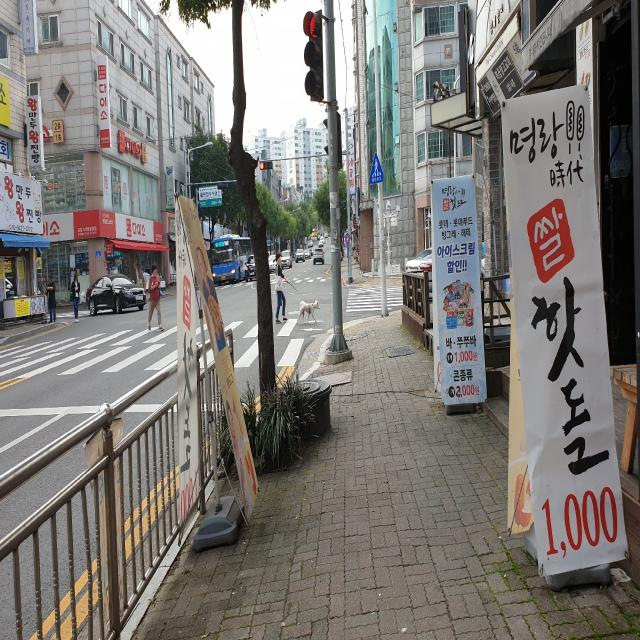횡단보도: (0, 305, 318, 387), (346, 286, 403, 313)
